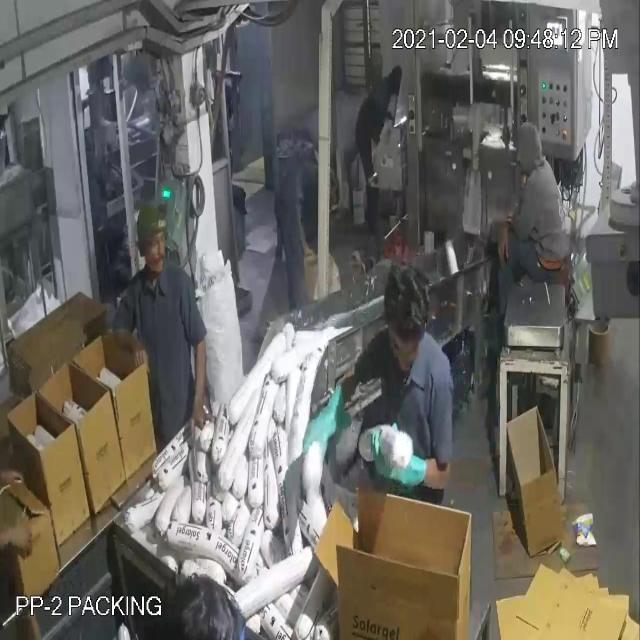gloves: (284, 364, 356, 476), (355, 412, 426, 500)
no-gloves: (170, 326, 218, 444), (101, 306, 157, 376), (491, 201, 525, 282)
